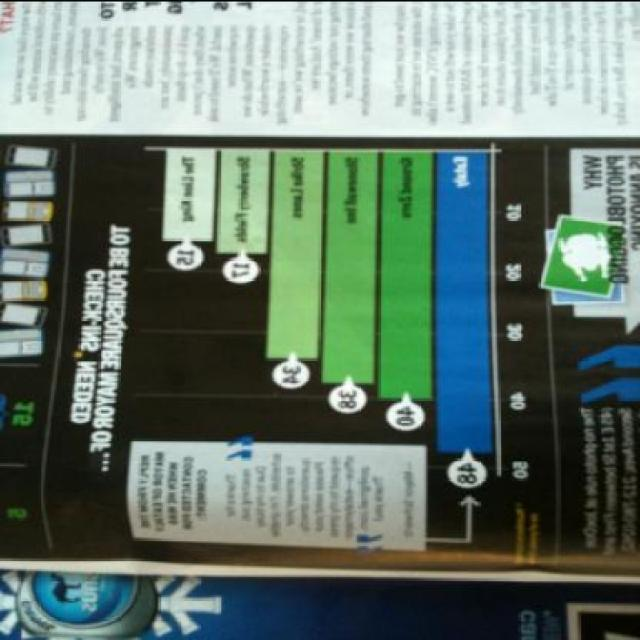phone: (0, 245, 52, 276), (2, 169, 58, 197), (0, 298, 49, 327), (0, 221, 52, 246), (6, 143, 60, 167), (0, 276, 48, 302), (1, 327, 43, 356), (1, 202, 55, 220)
